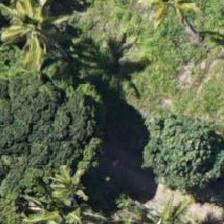coconut_tree: (9, 156, 99, 223), (0, 0, 84, 57), (101, 0, 191, 50), (102, 174, 192, 223)
